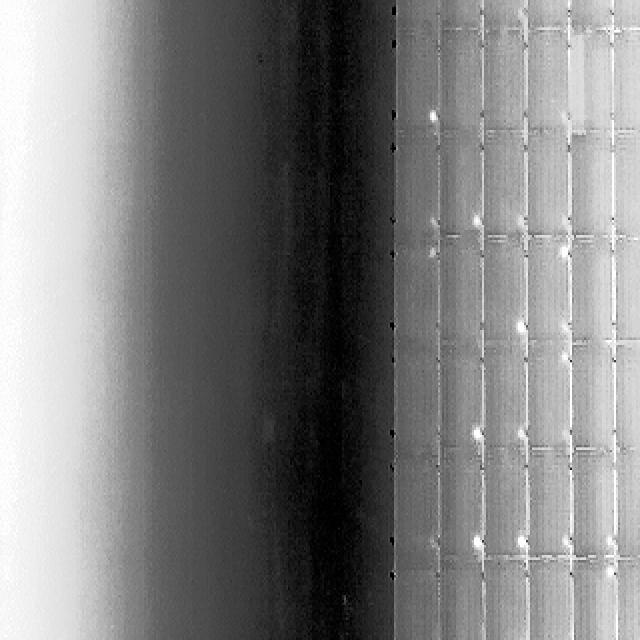Hotspots: (465, 209, 484, 233), (421, 211, 440, 234), (467, 532, 485, 556), (555, 238, 572, 262), (466, 422, 484, 443), (556, 530, 574, 551), (601, 561, 618, 583), (511, 319, 527, 342), (511, 533, 527, 555), (554, 212, 570, 232), (428, 108, 442, 130), (512, 212, 526, 234), (600, 534, 617, 552), (555, 107, 570, 127), (424, 243, 439, 263), (558, 320, 570, 341), (513, 7, 525, 23), (508, 637, 526, 640)
PV-modules: (475, 443, 521, 557), (566, 343, 614, 451), (528, 448, 574, 560), (394, 343, 439, 456), (567, 451, 614, 559), (438, 240, 484, 349), (476, 239, 522, 348), (394, 131, 439, 242), (476, 130, 521, 239), (527, 345, 573, 451), (476, 347, 522, 453), (435, 26, 481, 132), (394, 456, 439, 564), (569, 238, 614, 346), (527, 239, 572, 347), (437, 452, 481, 562), (528, 134, 572, 242), (477, 25, 522, 130), (436, 133, 481, 238), (569, 130, 612, 239), (394, 244, 439, 348), (395, 29, 438, 136), (438, 348, 480, 456), (566, 31, 610, 134), (526, 29, 570, 132), (436, 557, 486, 640), (476, 555, 522, 640), (568, 560, 616, 640), (392, 557, 438, 640), (528, 560, 574, 640), (608, 443, 640, 555), (606, 25, 640, 130), (608, 240, 640, 348), (612, 132, 640, 238), (614, 345, 640, 453), (397, 0, 483, 30), (610, 557, 640, 640), (564, 0, 610, 30), (481, 0, 528, 29), (394, 0, 438, 30), (527, 0, 571, 29), (438, 0, 480, 29), (612, 0, 640, 28)
